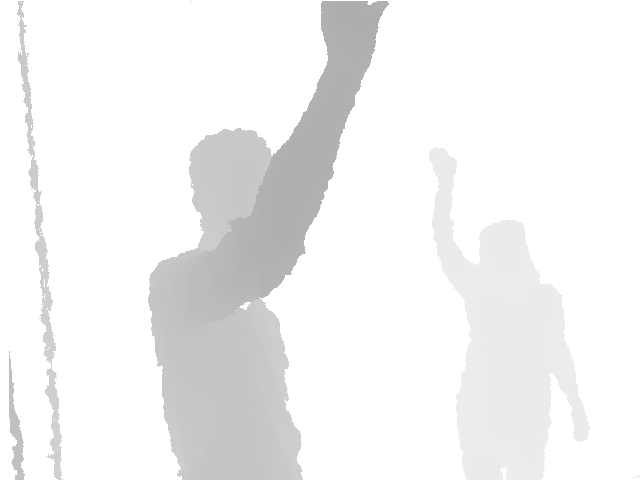hand: (318, 1, 391, 71), (428, 146, 458, 186)
head: (188, 129, 274, 252), (478, 219, 536, 277)
person: (146, 1, 391, 480), (428, 146, 592, 480)
